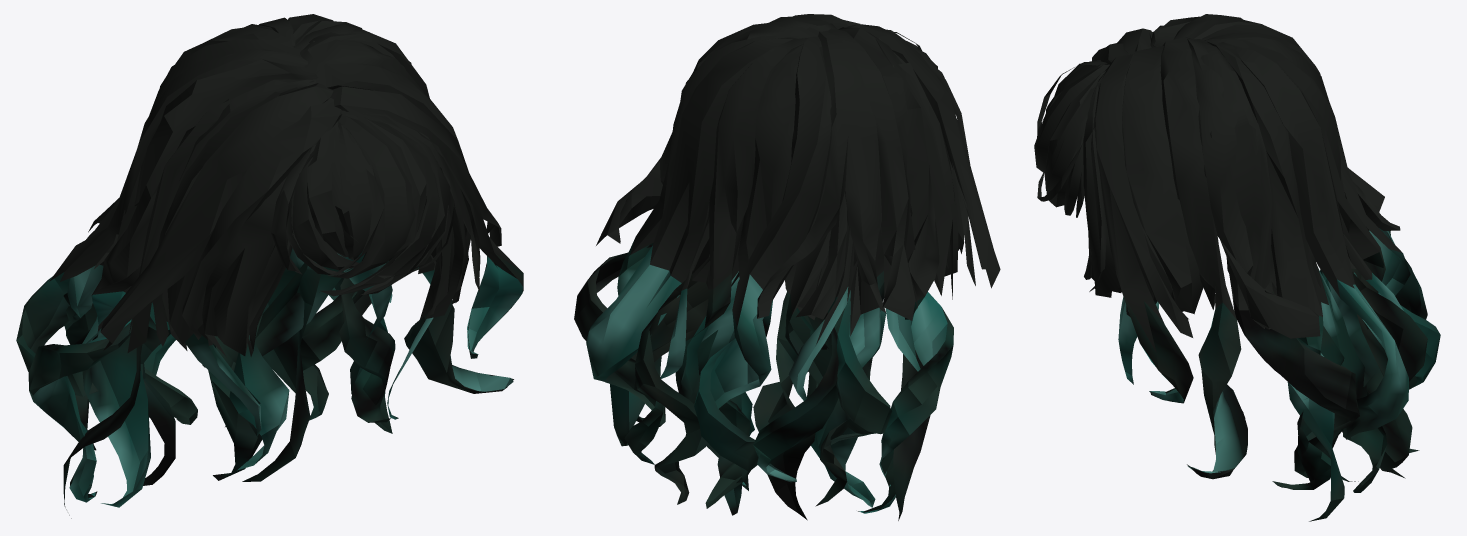
Rendered from regi pelo 3.fbx.
The picture shows the model from 3 angles, left to right: view 1: azimuth 30°, elevation 25°; view 2: azimuth 150°, elevation 25°; view 3: azimuth 270°, elevation 25°; orthographic projection. The views are drawn at different scales.
Visible parts, largest first — view 1: pelo regi; view 2: pelo regi; view 3: pelo regi.
Part boxes in pixels (box(x1,y1,x2,y2)): pelo regi: box(16, 14, 523, 518); pelo regi: box(574, 14, 1000, 520); pelo regi: box(1034, 14, 1440, 521).
Size of the model in its own units: 587 by 638 by 543.
